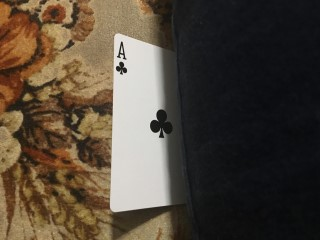AceOfClubs: (110, 32, 188, 212)
